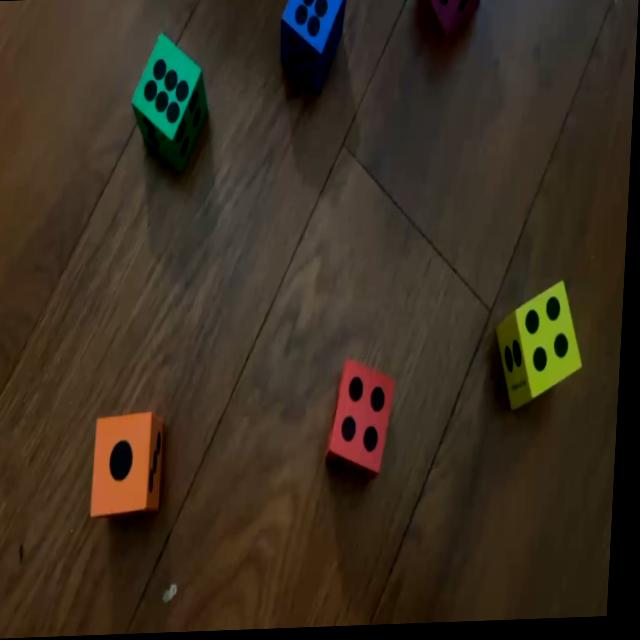cube: (130, 33, 212, 169), (329, 358, 399, 484), (278, 0, 346, 94)
